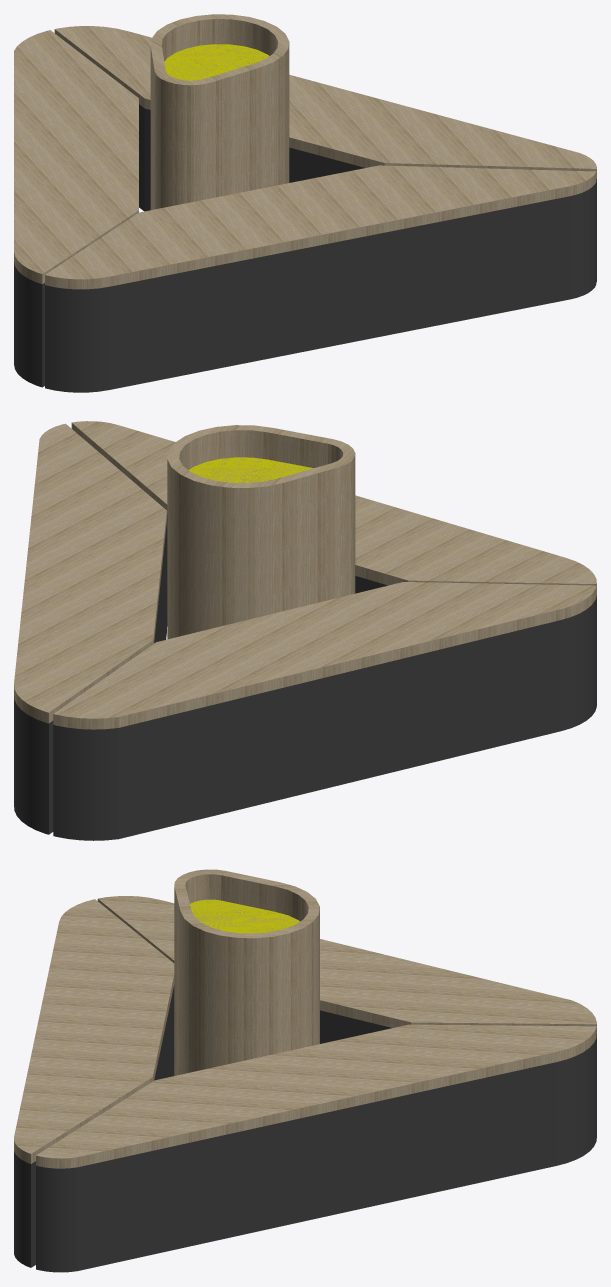
File: Garden+Bench.dae
3 views of the same model, one above another, from view 1: azimuth 30°, elevation 25°; view 2: azimuth 150°, elevation 25°; view 3: azimuth 270°, elevation 25° (orthographic). The views are drawn at different scales.
Visible parts, largest first — view 1: group_2 (×3), group_3 (×3), group_0 (×3); view 2: group_2 (×3), group_3 (×2), group_0 (×3); view 3: group_2 (×3), group_3 (×3), group_0 (×3).
Part boxes in pixels (left/top/right/bottom): group_2 (×3): left=14, top=26, right=596, bottom=289; group_3 (×3): left=14, top=104, right=596, bottom=392; group_0 (×3): left=150, top=14, right=289, bottom=209; group_2 (×3): left=14, top=421, right=596, bottom=729; group_3 (×2): left=14, top=522, right=596, bottom=840; group_0 (×3): left=167, top=425, right=355, bottom=639; group_2 (×3): left=14, top=896, right=596, bottom=1168; group_3 (×3): left=14, top=985, right=596, bottom=1272; group_0 (×3): left=174, top=869, right=319, bottom=1075.
Bounding box in the file's own units: 87.56 × 82.14 × 35.43.
4 materials, 2 textured.
